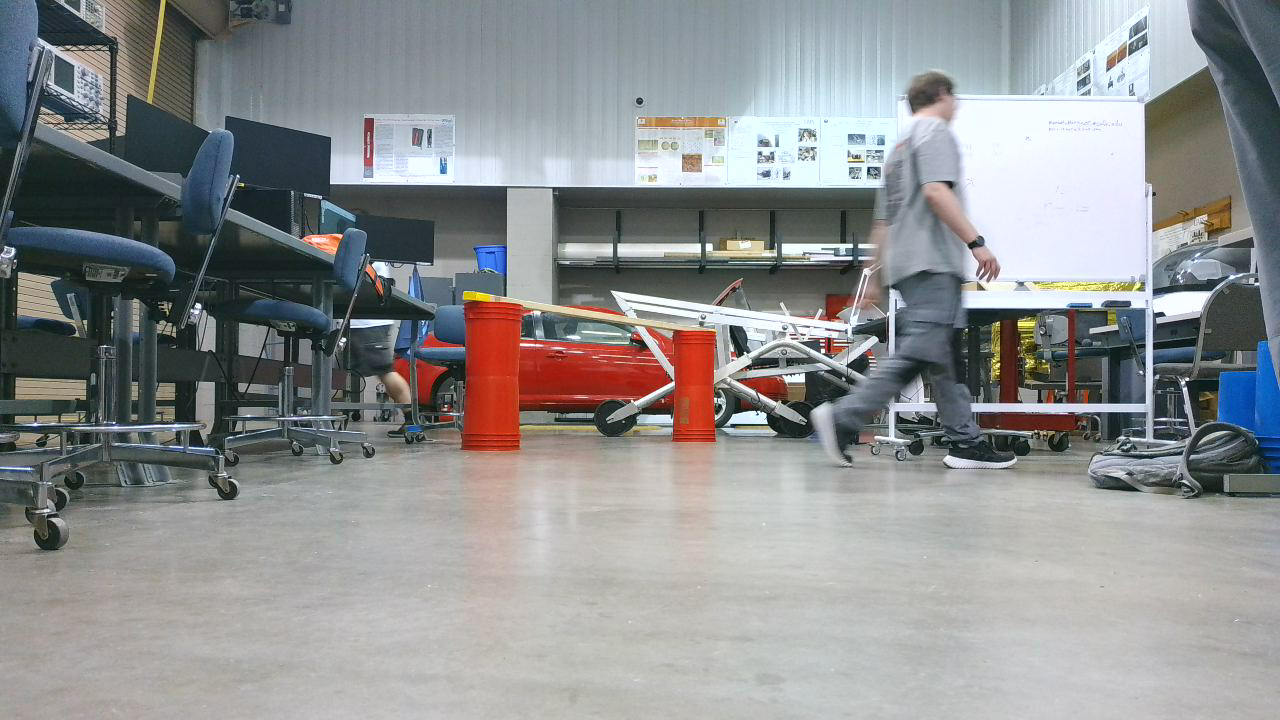red_bucket_arch: (459, 291, 729, 459)
